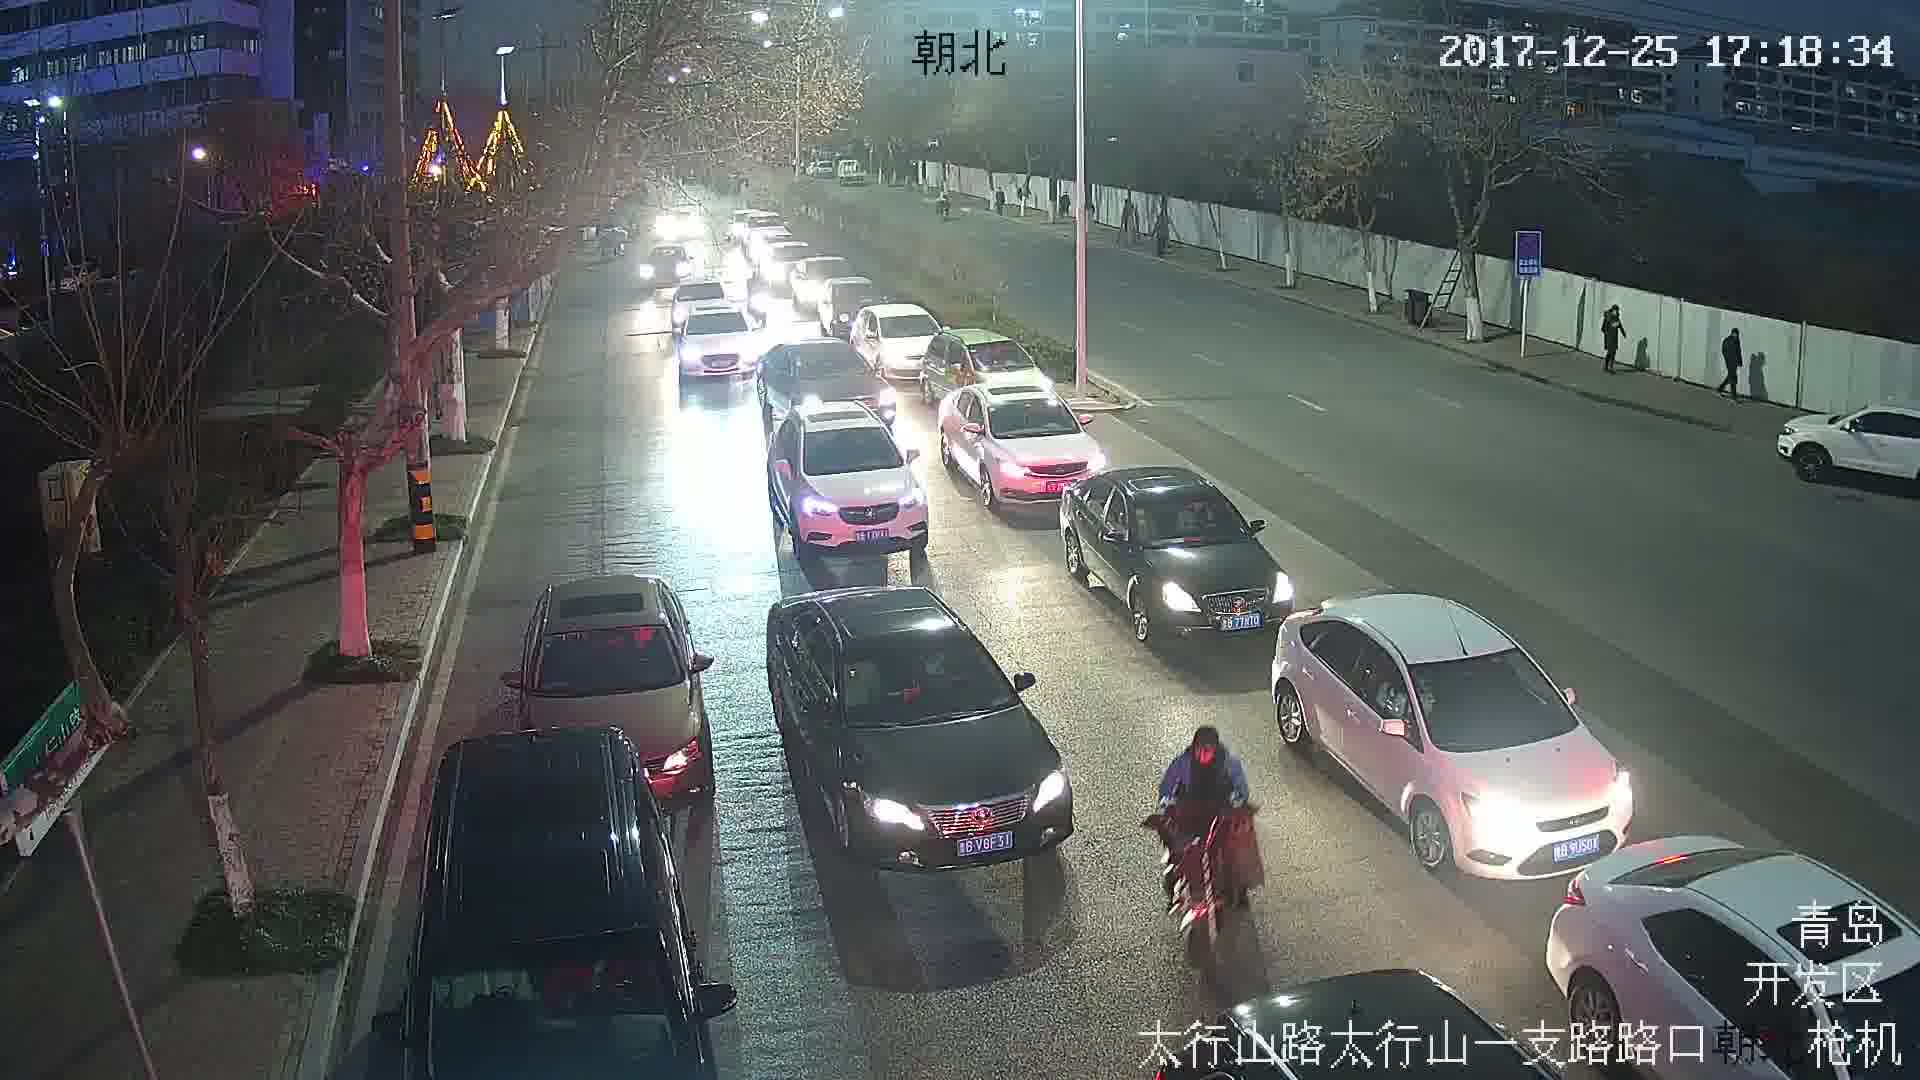car: (1270, 592, 1625, 878), (766, 588, 1075, 874), (506, 575, 720, 798), (1059, 464, 1295, 646), (764, 400, 931, 559), (937, 384, 1109, 510), (680, 307, 760, 381)
person: (1166, 725, 1242, 848), (1718, 327, 1745, 403), (1599, 303, 1624, 369)
